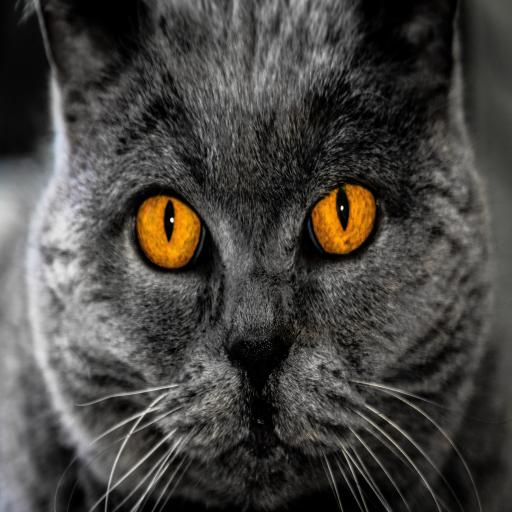cats: (4, 0, 512, 510)
